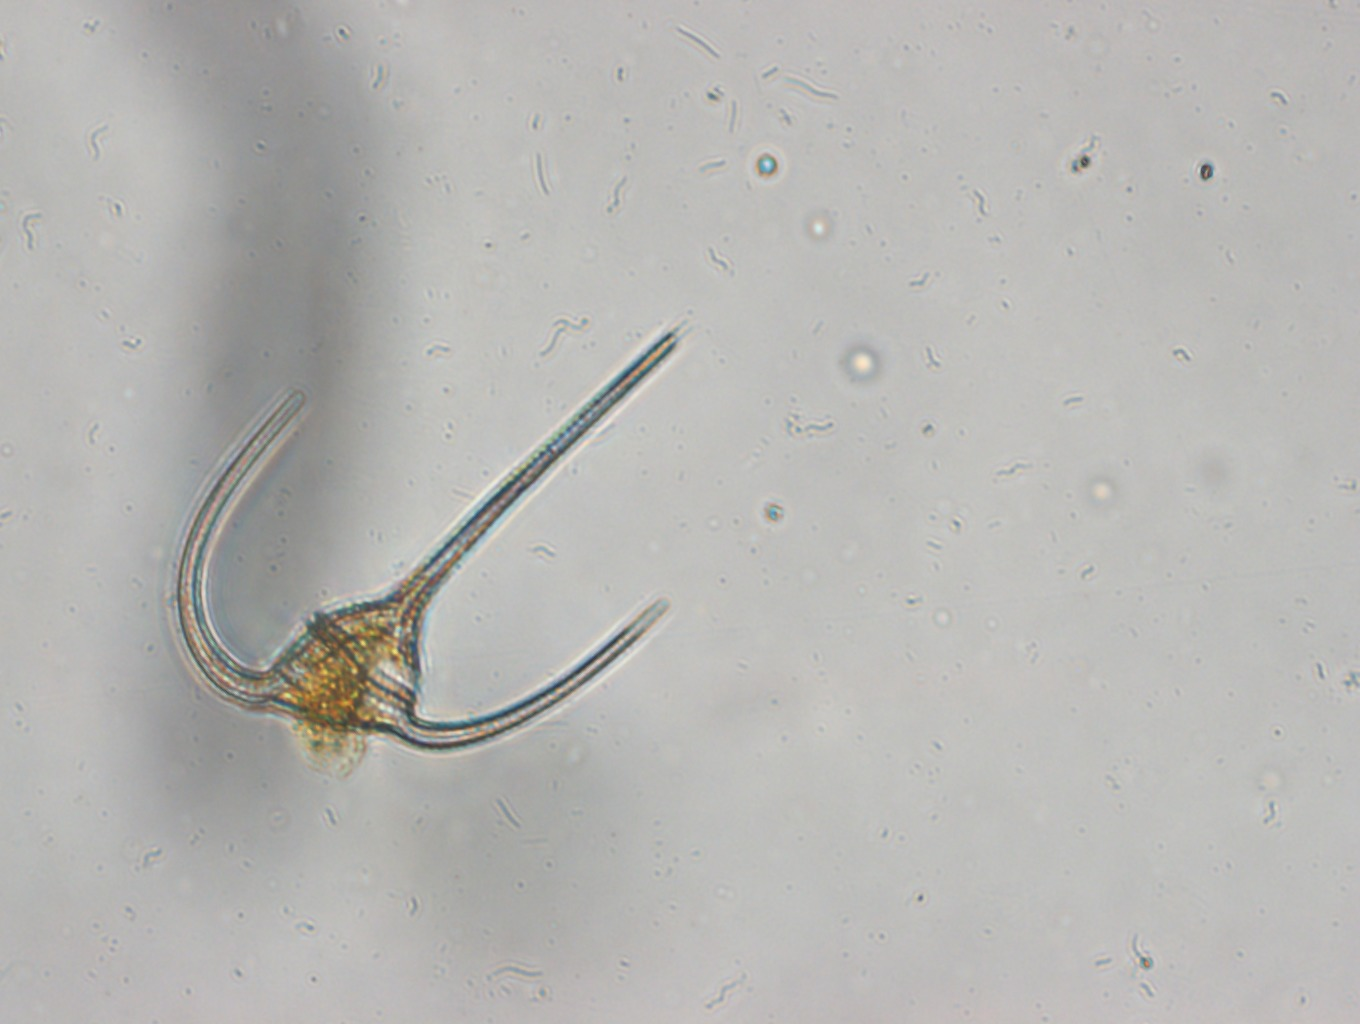ceratium trichoceros: (164, 310, 695, 757)
